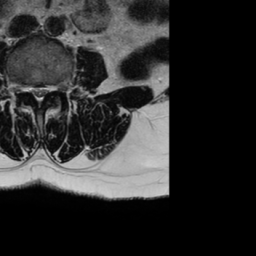CCS_normal: (36, 81, 43, 113)
LFS_stenosis: (50, 78, 57, 97)
LLS_stenosis: (43, 81, 49, 102)
RFS_normal: (21, 78, 29, 101)
RLS_stenosis: (28, 82, 36, 102)
